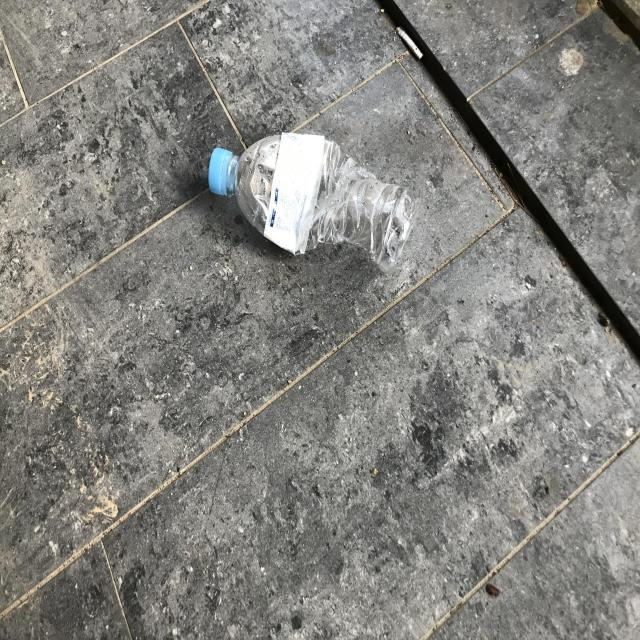plastic: (208, 132, 417, 272)
